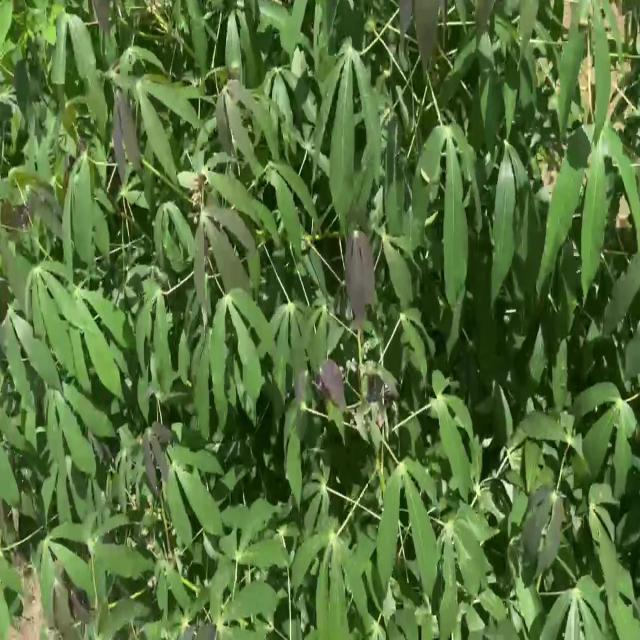Mosca: (481, 227, 510, 258), (572, 167, 598, 194), (418, 158, 440, 186), (161, 523, 187, 545), (565, 256, 587, 278), (537, 523, 557, 547)
